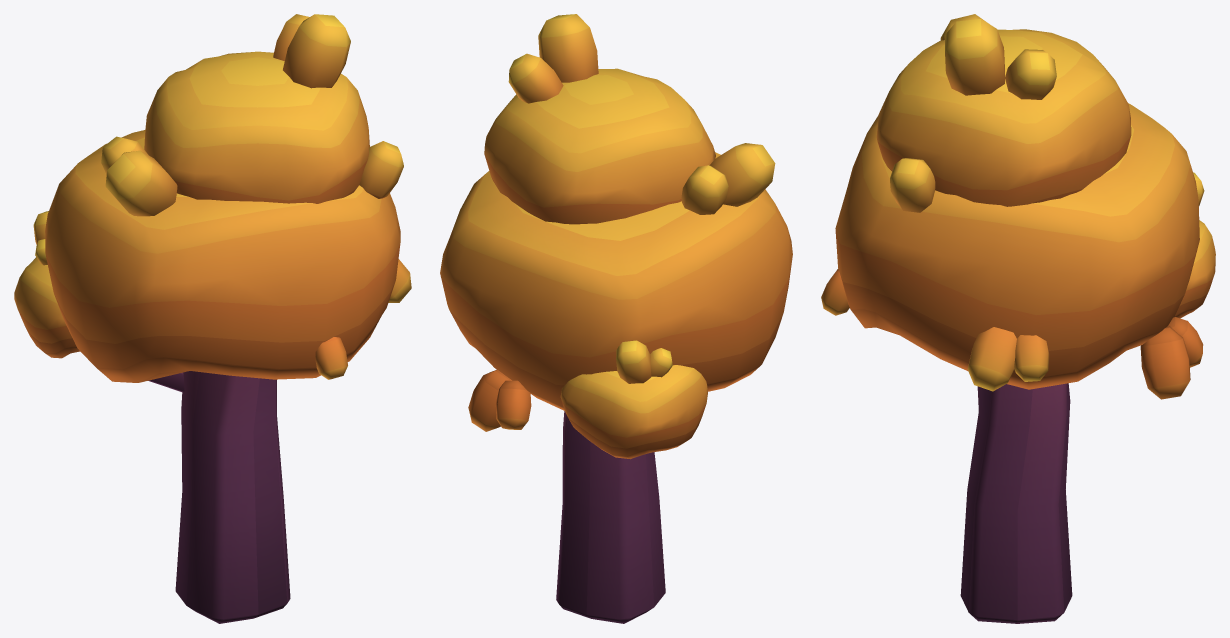
File: grassland_tree_col2_3.fbx
3 views of the same model, side by side, from view 1: azimuth 30°, elevation 25°; view 2: azimuth 150°, elevation 25°; view 3: azimuth 270°, elevation 25° (orthographic). The views are drawn at different scales.
Visible parts, largest first — view 1: grassland_tree_col2_3; view 2: grassland_tree_col2_3; view 3: grassland_tree_col2_3.
Part boxes in pixels (box(x1,y1,x2,y2)): grassland_tree_col2_3: box(14, 14, 411, 623); grassland_tree_col2_3: box(440, 14, 792, 623); grassland_tree_col2_3: box(821, 14, 1215, 623).
Size of the model in its own units: 460 by 793 by 458.
